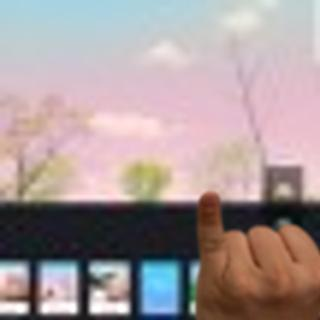FINE: (183, 188, 320, 320)
